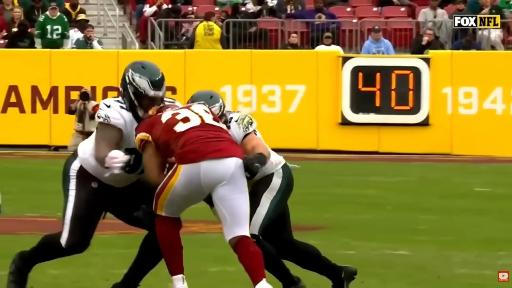Helmet: (120, 61, 165, 118), (187, 90, 225, 119), (149, 104, 179, 115)
Jersey: (136, 103, 242, 164), (78, 98, 143, 187), (226, 111, 264, 145)
Player: (7, 61, 165, 287), (188, 91, 357, 287), (136, 104, 271, 287)
